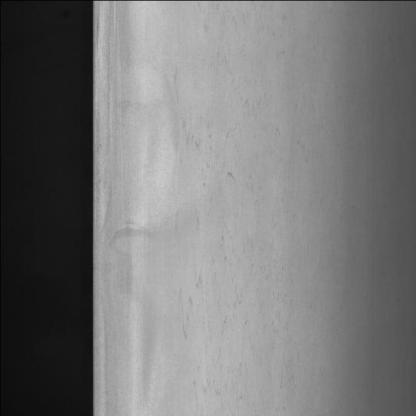silk_spot: (177, 0, 279, 387)
